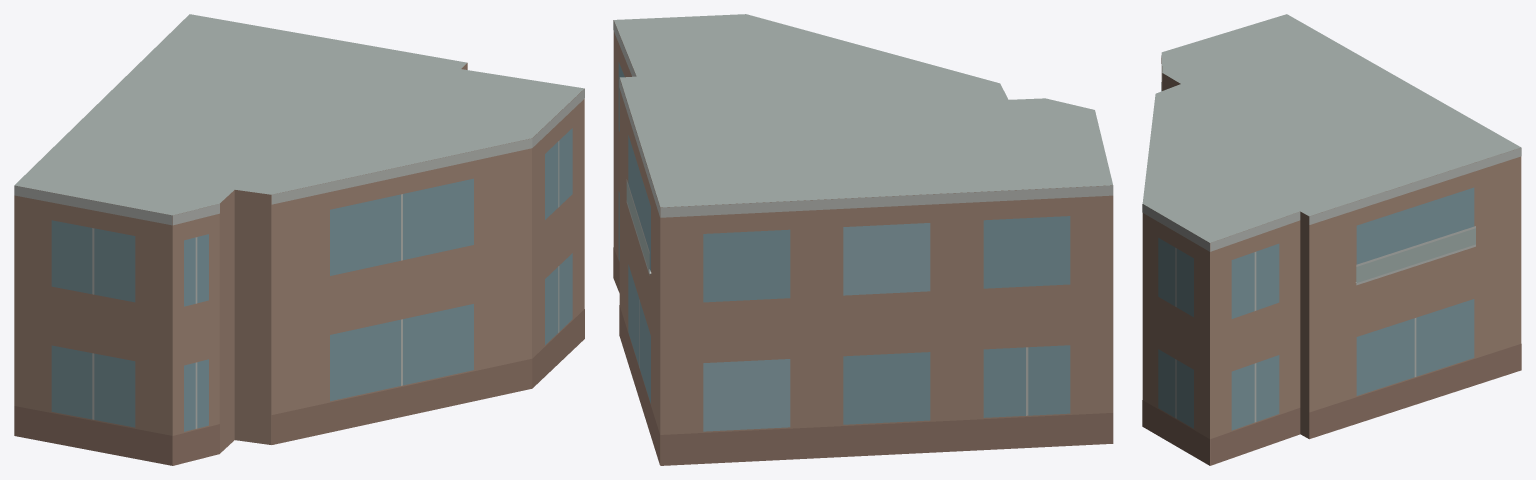
File: survey-upis-32935791.glb
3 renders of one model, left to right at view 1: azimuth 30°, elevation 25°; view 2: azimuth 150°, elevation 25°; view 3: azimuth 270°, elevation 25°, orthographic. The views are drawn at different scales.
Visible parts, largest first — view 1: survey-upis-32935791.tmp; view 2: survey-upis-32935791.tmp; view 3: survey-upis-32935791.tmp.
Part boxes in pixels (x1,y1,x2,y2): survey-upis-32935791.tmp: (14, 14, 584, 465); survey-upis-32935791.tmp: (613, 14, 1113, 465); survey-upis-32935791.tmp: (1142, 14, 1521, 465).
Bounding box in the file's own units: 13.45 × 6.1 × 9.41.
